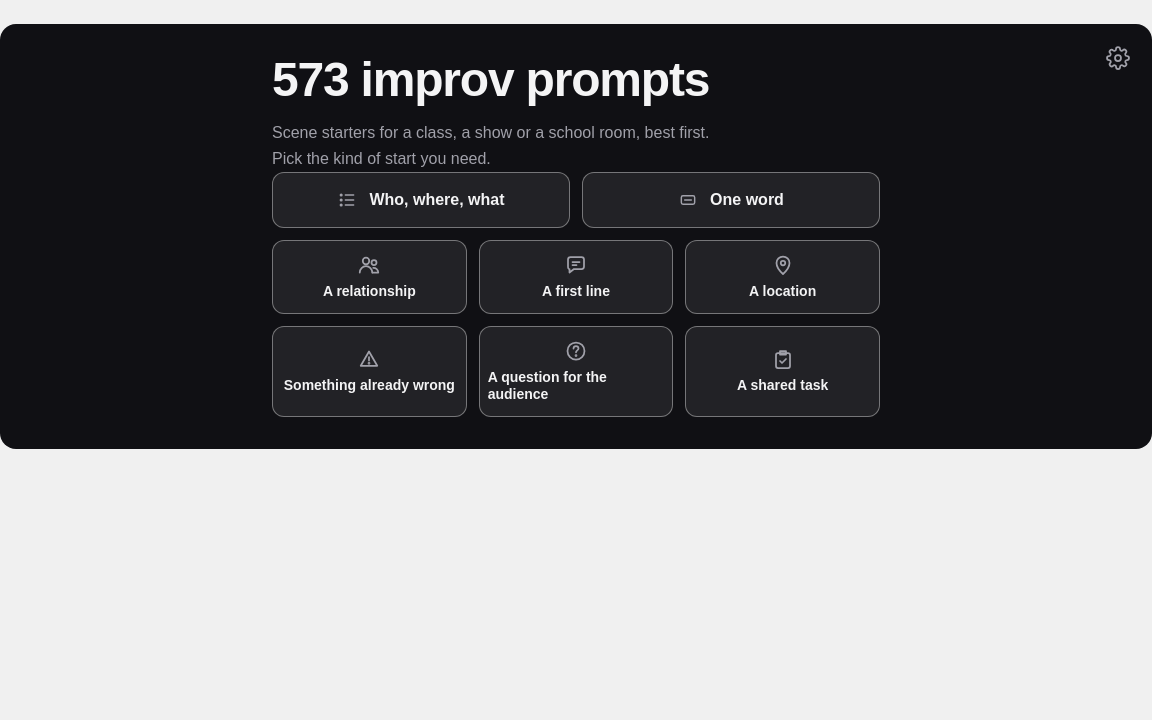
Test: what a row can say › keeps the coaching line off the slide, on the prompt that carries one
Click the button "A first line": [576, 277] box [479,240,673,314]
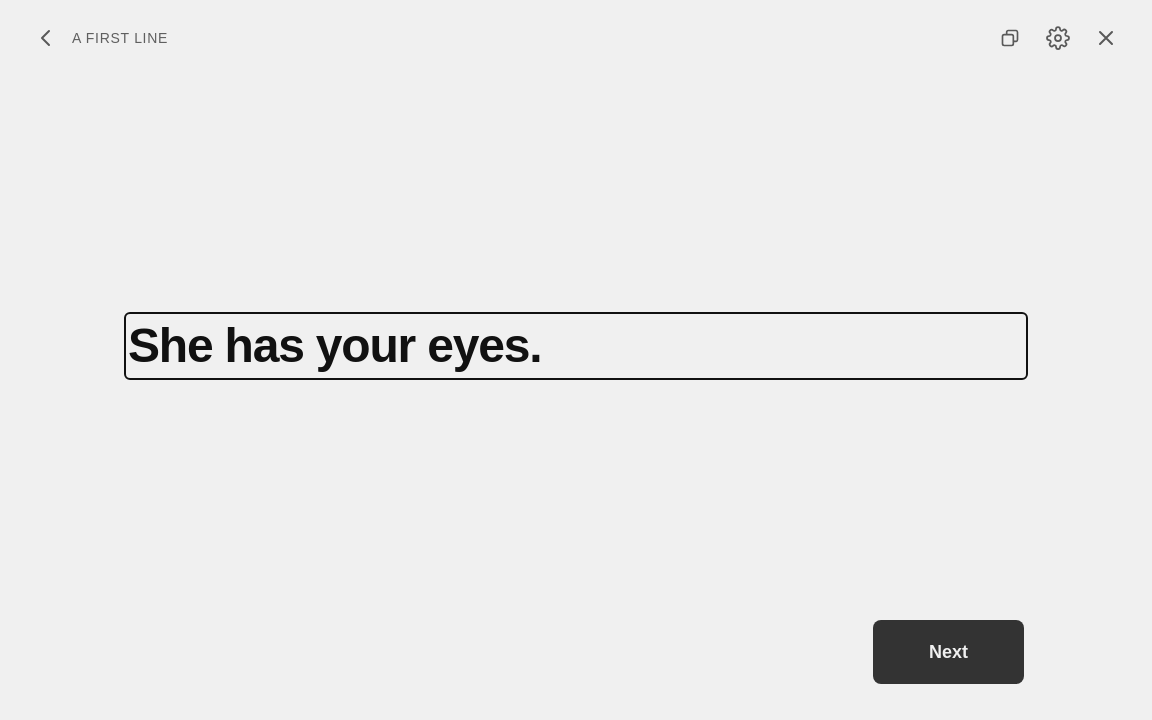
Result: the text with test id "prompt-text" reads "She has your eyes." at [128,319,541,372]
